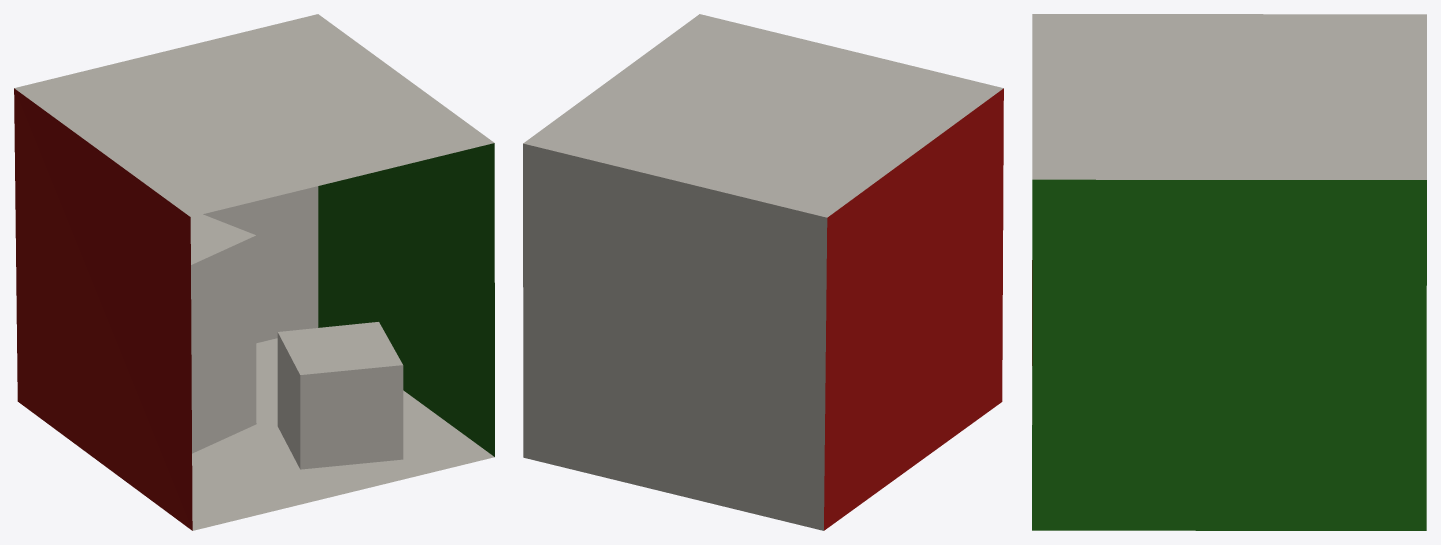
Rendered from cornell-box.obj.
3 views of the same model, side by side, from view 1: azimuth 30°, elevation 25°; view 2: azimuth 150°, elevation 25°; view 3: azimuth 270°, elevation 25° (orthographic). The views are drawn at different scales.
Visible parts, largest first — view 1: left_wall, ceiling, right_wall, floor, short_box, tall_box, back_wall; view 2: back_wall, left_wall, ceiling; view 3: right_wall, ceiling.
Part boxes in pixels (x1,y1,x2,y2): left_wall: [14, 88, 192, 530]; ceiling: [14, 14, 494, 216]; right_wall: [318, 143, 494, 456]; floor: [192, 338, 494, 530]; short_box: [277, 322, 403, 469]; tall_box: [190, 214, 256, 453]; back_wall: [203, 186, 318, 343]; back_wall: [523, 143, 827, 530]; left_wall: [824, 88, 1003, 530]; ceiling: [523, 14, 1003, 217]; right_wall: [1032, 179, 1426, 530]; ceiling: [1032, 14, 1426, 179].
Size of the model in its own units: 5.56 by 5.49 by 5.6.
